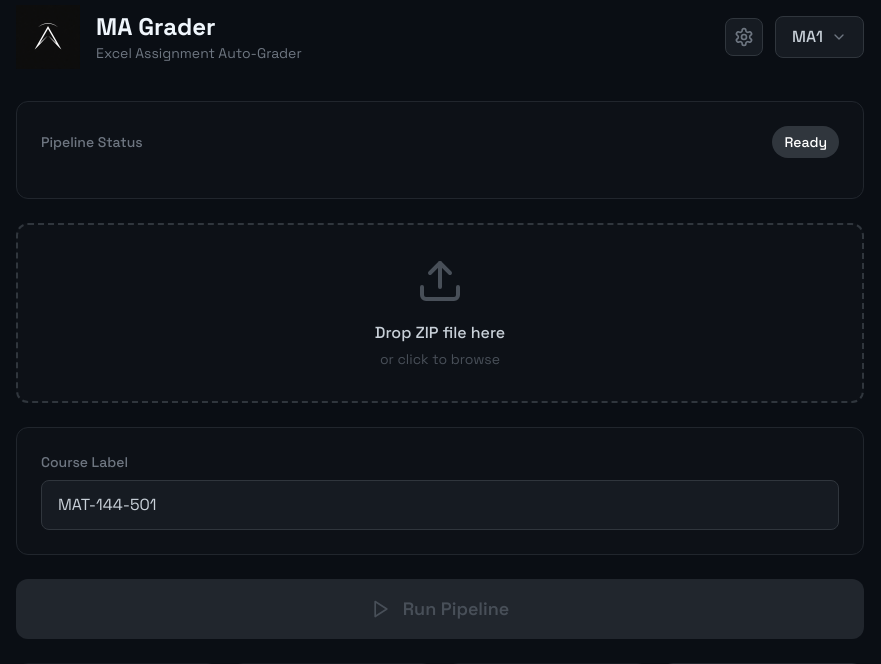
App Component › Assignment Dropdown › allows selecting MA3
Note: Open dropdown
Click the button "MA1" at (819, 37), box [775,16,864,58]
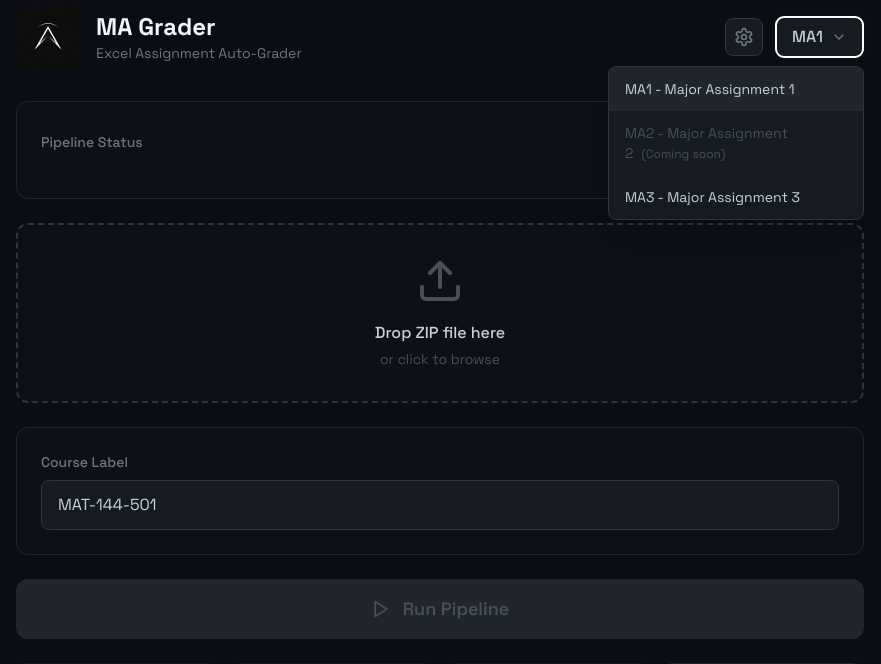
Note: Select MA3
Click the button "MA3 - Major Assignment 3" at (736, 197), box [609,175,863,219]
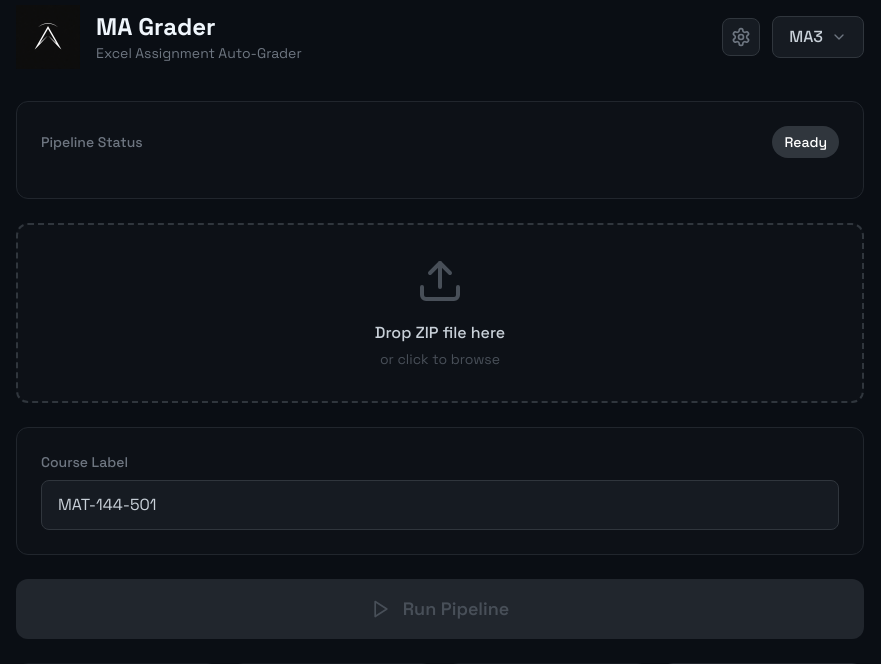
Result: the button "MA3" is shown at [772,16,864,58]
